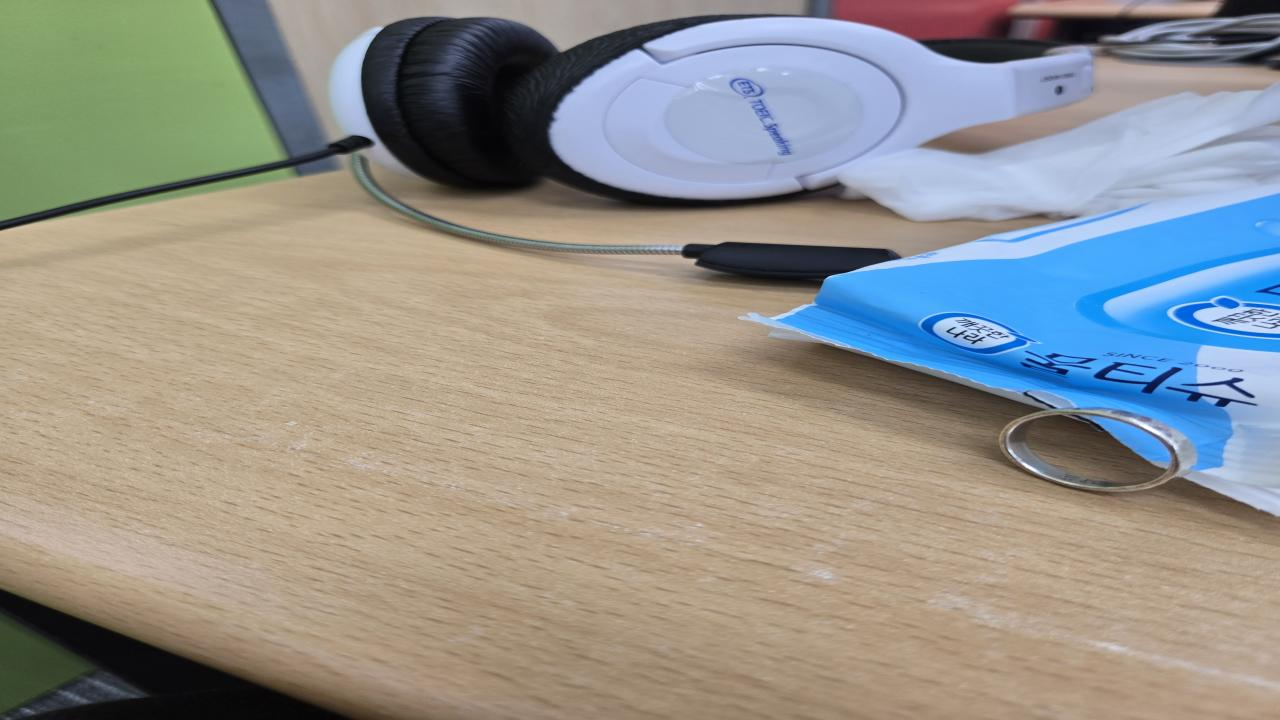ring: (994, 406, 1198, 496)
